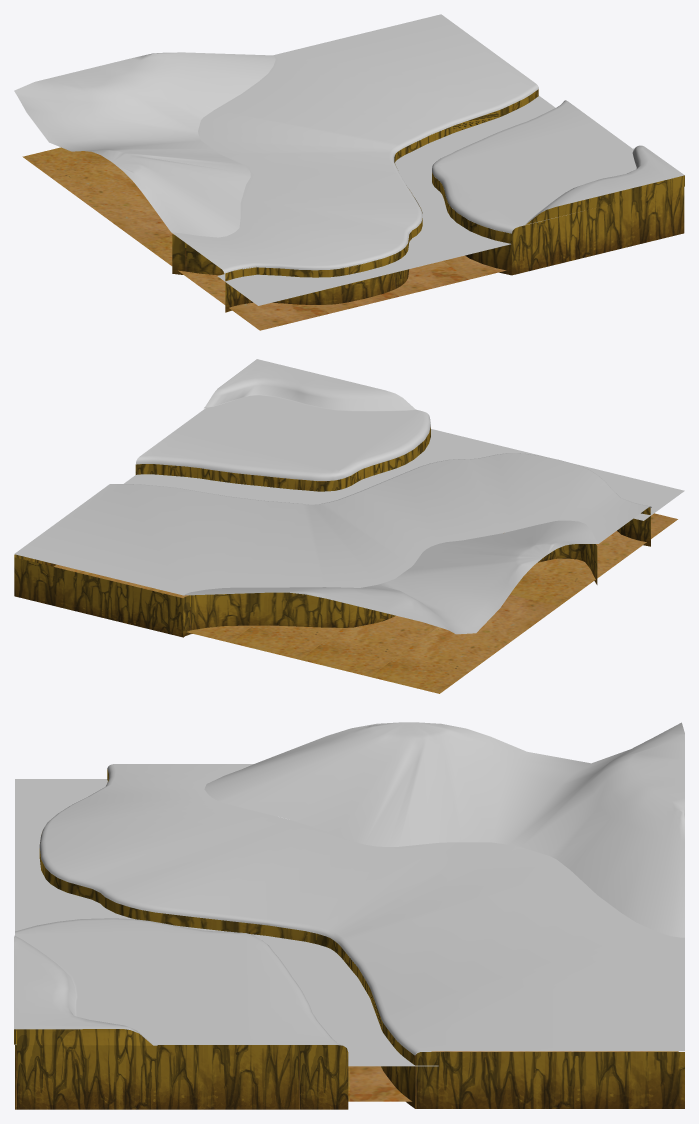
File: Terrain1_1 redone.FBX
3 renders of one model, top to bottom at view 1: azimuth 30°, elevation 25°; view 2: azimuth 150°, elevation 25°; view 3: azimuth 270°, elevation 25°, orthographic. The views are drawn at different scales.
Visible parts, largest first — view 1: Object043, Object032, Object031, Plane030, Plane031; view 2: Object043, Object031, Plane030, Object032, Plane031; view 3: Object043, Object032, Object031, Plane031, Plane030.
Boxes of the visible parts, x1,y1,x2,y2 form: Object043: (14,14,538,273); Object032: (172,89,684,312); Object031: (432,100,684,233); Plane030: (22,147,506,330); Plane031: (217,95,555,305); Object043: (14,453,651,634); Object031: (135,359,430,480); Plane030: (54,467,677,693); Object032: (14,427,650,637); Plane031: (124,429,684,520); Object043: (39,722,684,1055); Object032: (14,769,684,1109); Object031: (14,918,342,1045); Plane031: (15,779,438,1066); Plane030: (348,1051,678,1101).
Bounding box in the file's own units: 968 × 158 × 945.
